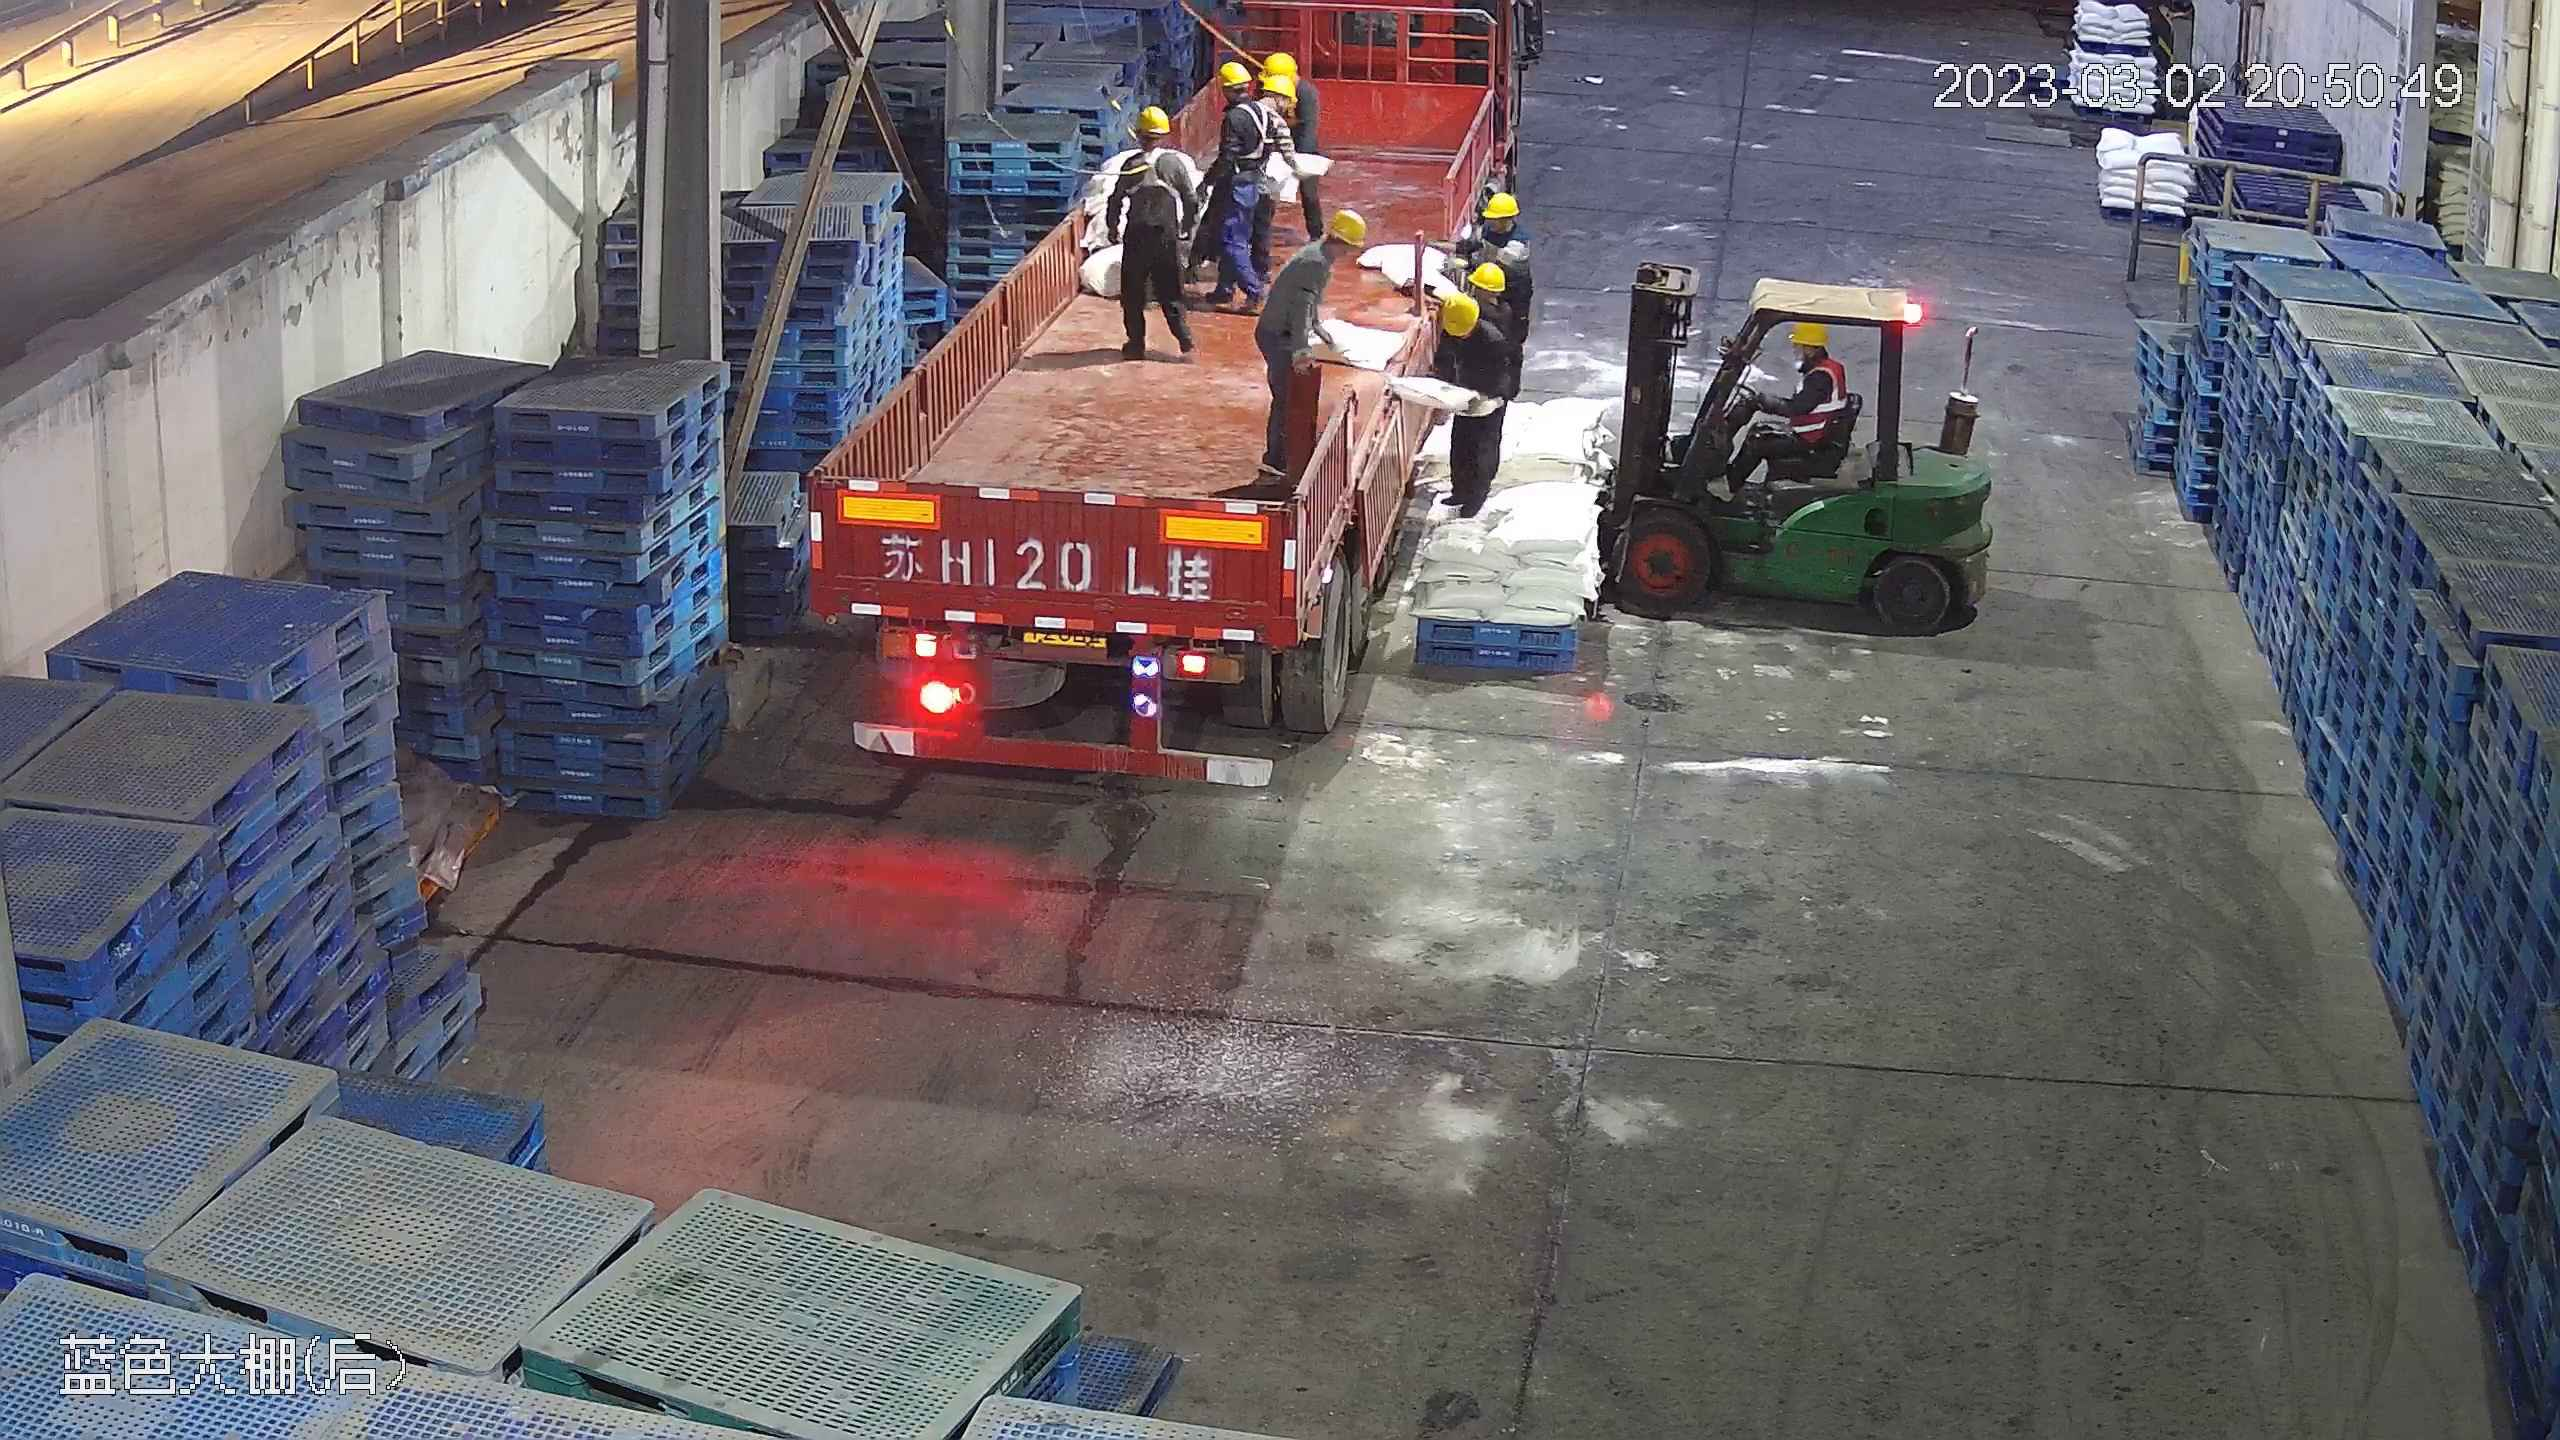belt: (1227, 96, 1289, 161), (1123, 151, 1182, 203)
head: (1281, 209, 1370, 300), (1431, 280, 1513, 364), (1112, 104, 1192, 184), (1203, 58, 1285, 135), (1782, 319, 1847, 399), (1478, 192, 1532, 264), (1261, 71, 1297, 103)
helmet: (1439, 288, 1490, 336), (1323, 209, 1369, 247), (1469, 262, 1509, 294), (1134, 104, 1173, 133), (1788, 320, 1829, 346), (1209, 61, 1246, 89), (1263, 50, 1296, 77), (1482, 191, 1518, 218)
people: (1248, 211, 1378, 485), (1097, 103, 1203, 360), (1199, 58, 1301, 306), (1718, 319, 1850, 496), (1422, 286, 1515, 524)
truck: (803, 32, 1530, 788)
